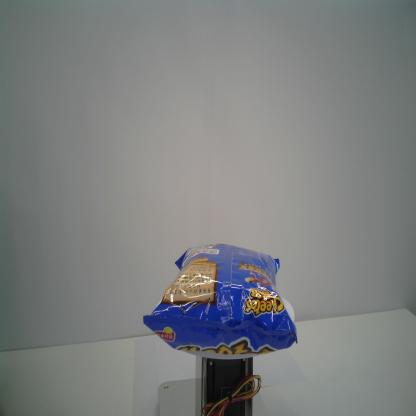Puffed Food: (142, 243, 298, 356)
